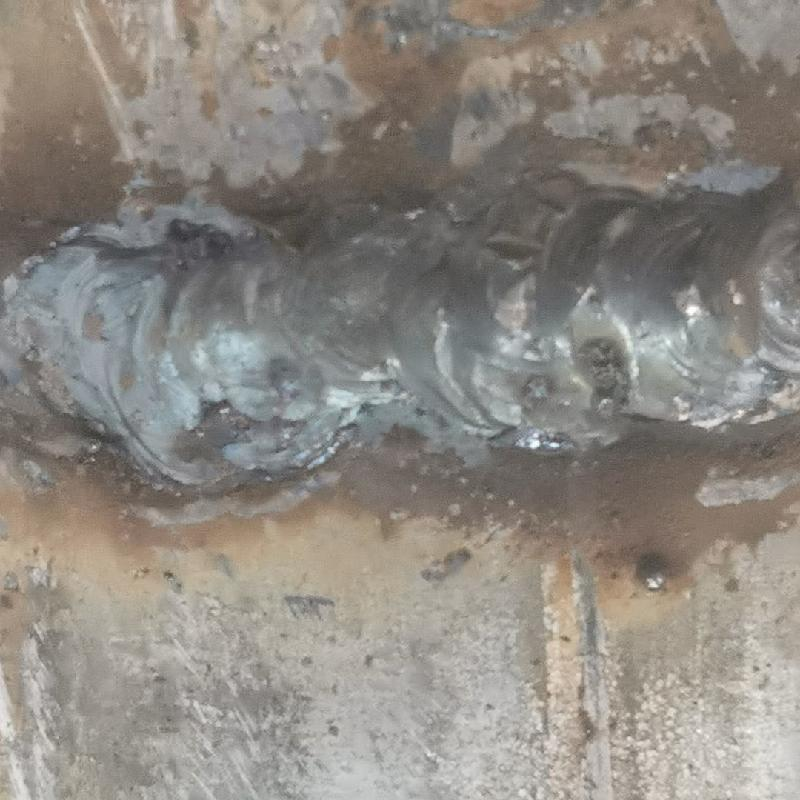good: (1, 185, 799, 498)
